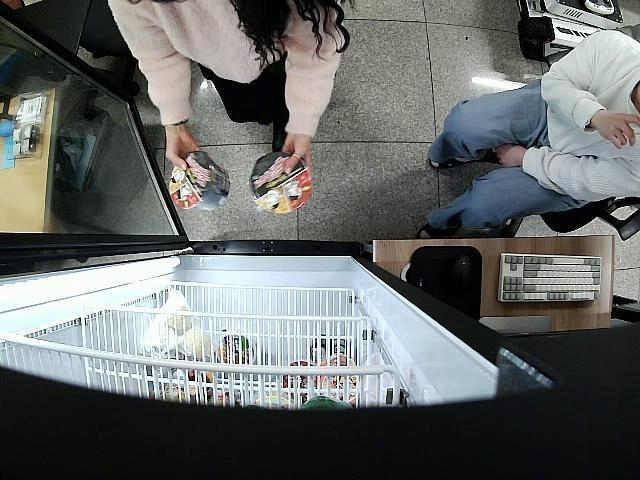07_buldak_L: (248, 153, 312, 216), (168, 152, 230, 212)
